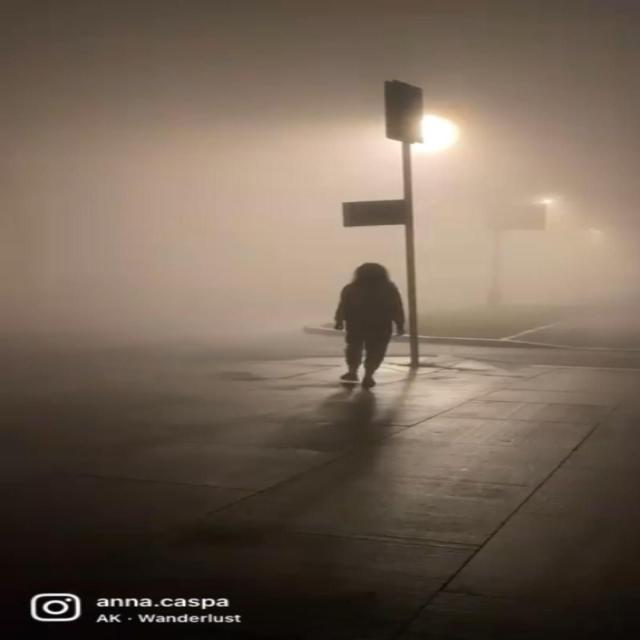on: (325, 56, 512, 188)
